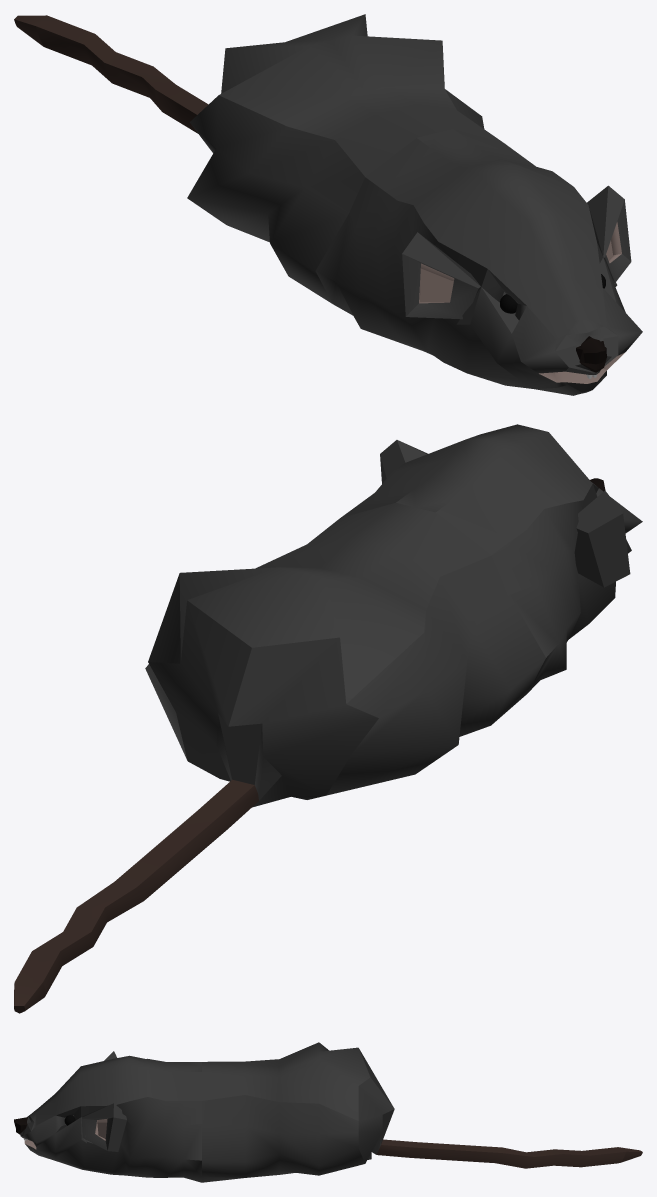
File: deadRat3.fbx
The picture shows the model from 3 angles, top to bottom: view 1: azimuth 30°, elevation 25°; view 2: azimuth 150°, elevation 25°; view 3: azimuth 270°, elevation 25°; orthographic projection. The views are drawn at different scales.
Visible parts, largest first — view 1: pCube3; view 2: pCube3; view 3: pCube3.
Boxes of the visible parts, box(x1,y1,x2,y2) form: pCube3: box(14, 14, 642, 395); pCube3: box(14, 424, 642, 1013); pCube3: box(14, 1042, 642, 1182).
Bounding box in the file's own units: 2.07 × 1.35 × 6.97.
